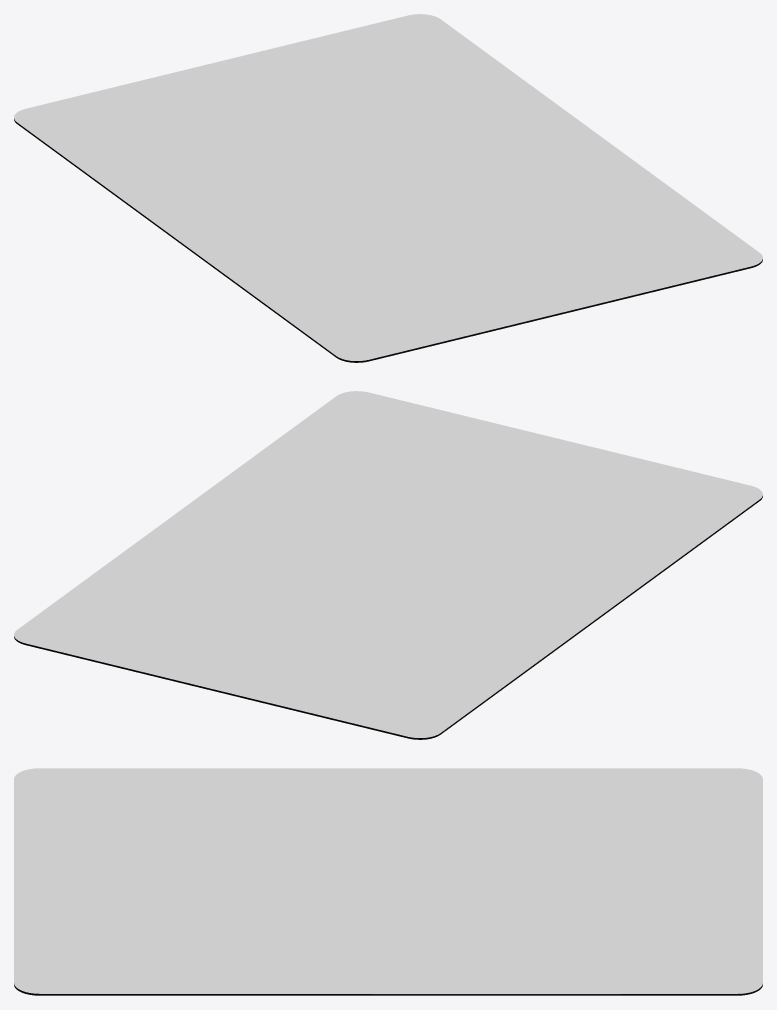
The model's file is card-dynamic-front.glb.
The picture shows the model from 3 angles, top to bottom: view 1: azimuth 30°, elevation 25°; view 2: azimuth 150°, elevation 25°; view 3: azimuth 270°, elevation 25°; orthographic projection. The views are drawn at different scales.
Visible parts, largest first — view 1: Card; view 2: Card; view 3: Card.
Part boxes in pixels (box(x1,y1,x2,y2)): Card: box(14, 14, 762, 362); Card: box(14, 391, 762, 739); Card: box(14, 768, 762, 995).
Bounding box in the file's own units: 62 × 0.24 × 87.
Materials: 2 (1 with a texture image).
